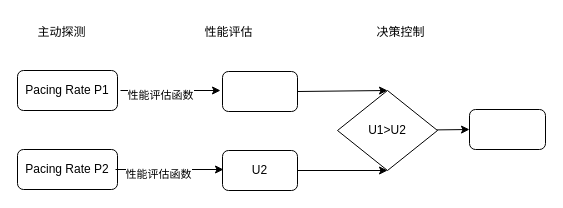
This 563x208 diagram has some shape labels left out. Here are the shapes that lost their labels. From the top down, the centre of each, then its label:
(260,91): U1
(507,129): 选择P1
